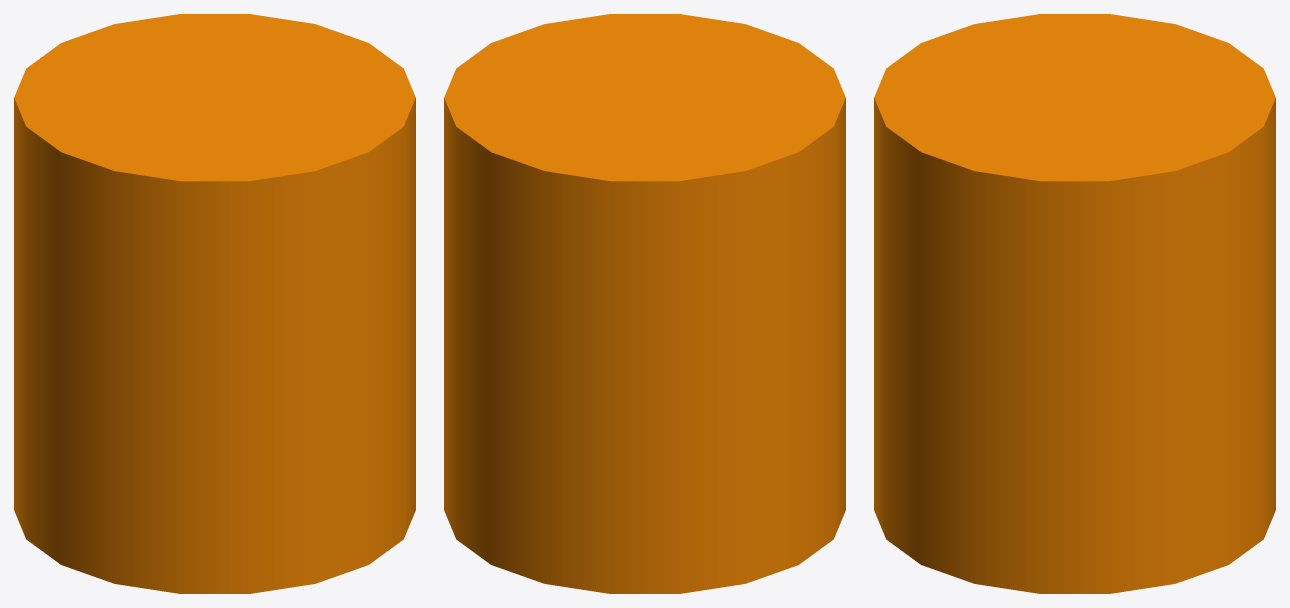
The model's file is Mini_Cylinder.fbx.
3 renders of one model, left to right at view 1: azimuth 30°, elevation 25°; view 2: azimuth 150°, elevation 25°; view 3: azimuth 270°, elevation 25°, orthographic.
Parts seen in each view (by area): view 1: Mini_Cylinder; view 2: Mini_Cylinder; view 3: Mini_Cylinder.
Part boxes in pixels (x1,y1,x2,y2): Mini_Cylinder: (14,14,415,593); Mini_Cylinder: (444,14,845,593); Mini_Cylinder: (874,14,1275,593).
Size of the model in its own units: 5.24 by 6.04 by 5.32.
Materials: 1 (1 with a texture image).
